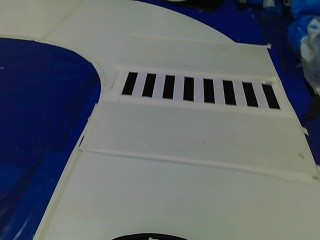crosswalk: (113, 65, 286, 117)
